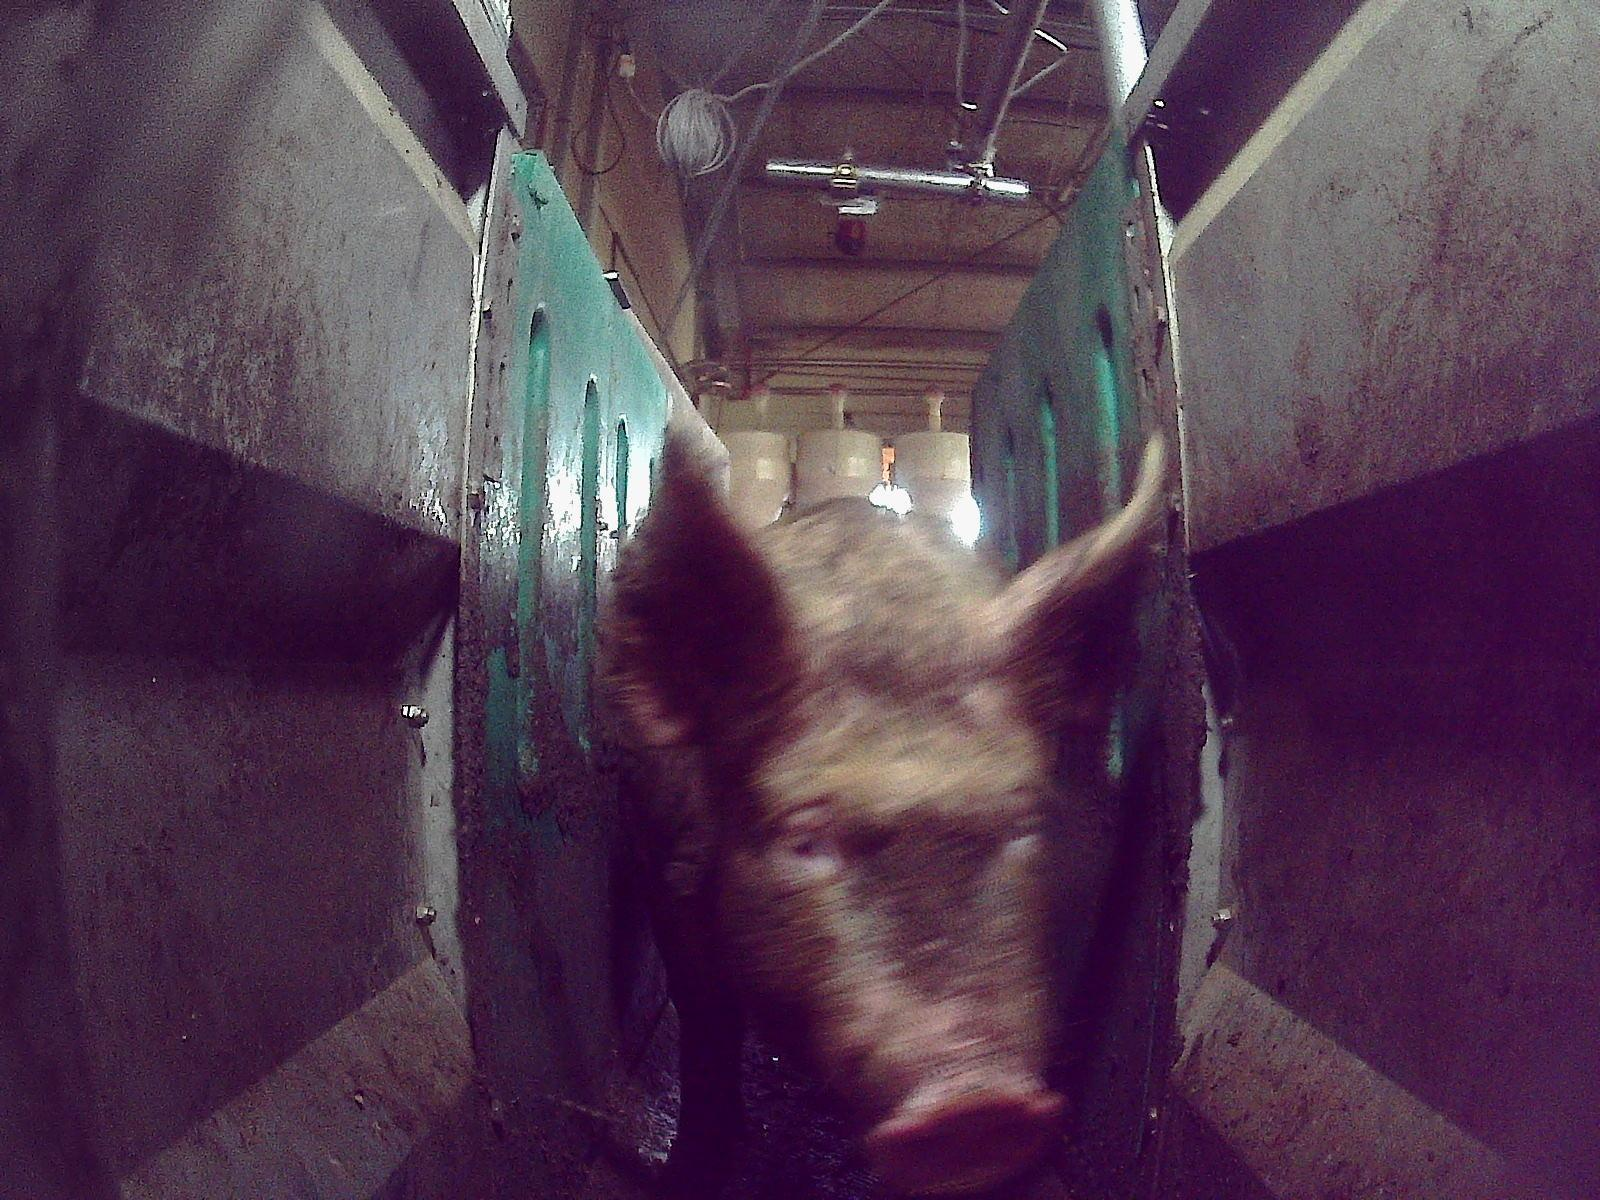Face: (707, 608, 1064, 1191)
